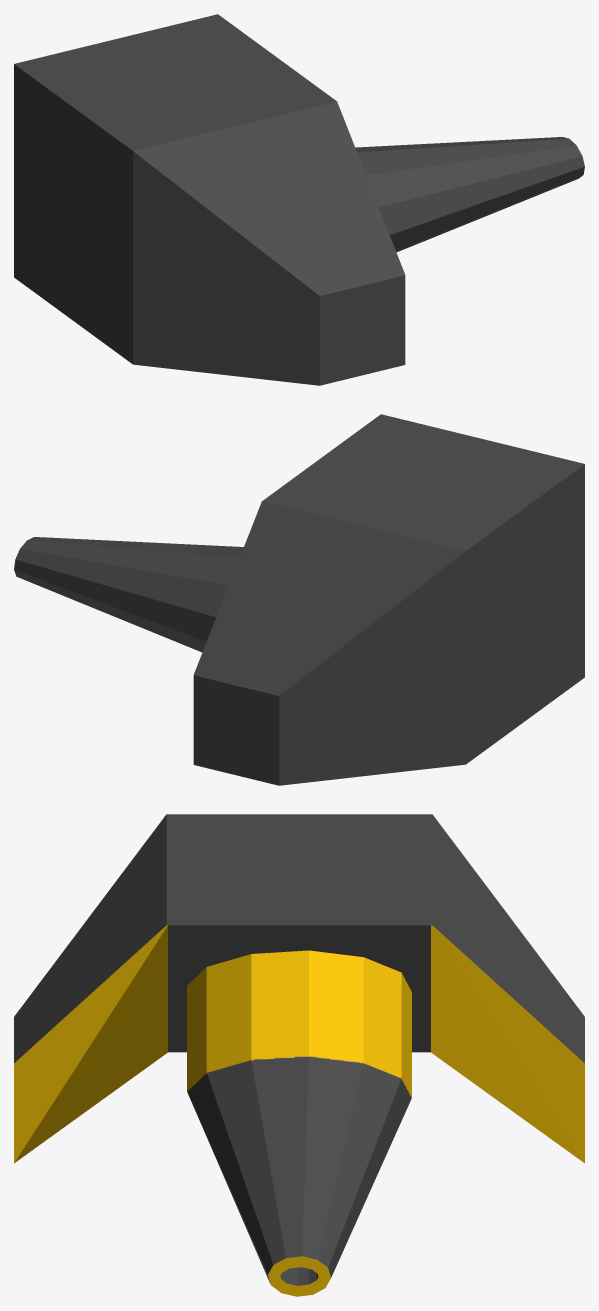
File: Ship Anchor.fbx
3 views of the same model, one above another, from view 1: azimuth 30°, elevation 25°; view 2: azimuth 150°, elevation 25°; view 3: azimuth 270°, elevation 25° (orthographic). The views are drawn at different scales.
Visible parts, largest first — view 1: Ship Anchor; view 2: Ship Anchor; view 3: Ship Anchor.
Boxes of the visible parts, <box> form: Ship Anchor: <box>14,14,584,385</box>; Ship Anchor: <box>14,414,584,785</box>; Ship Anchor: <box>14,814,584,1296</box>.
Size of the model in its own units: 488 by 221 by 434.
